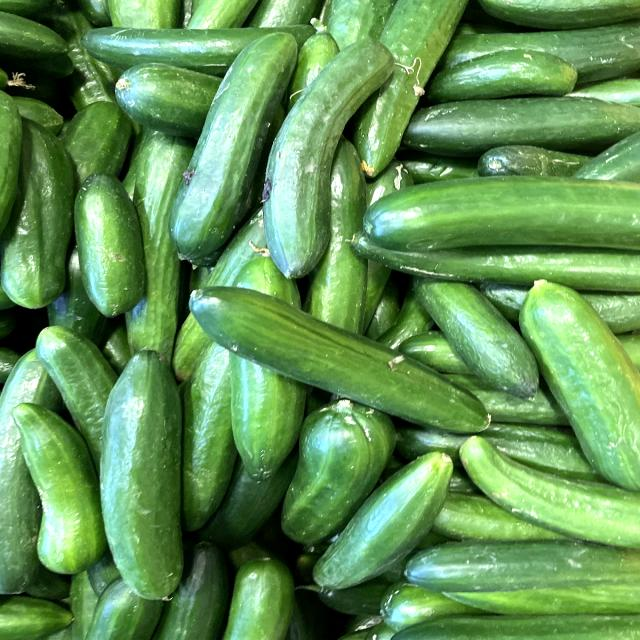cucumber: (173, 274, 508, 443), (249, 32, 415, 279), (155, 17, 321, 262), (80, 336, 217, 611)
